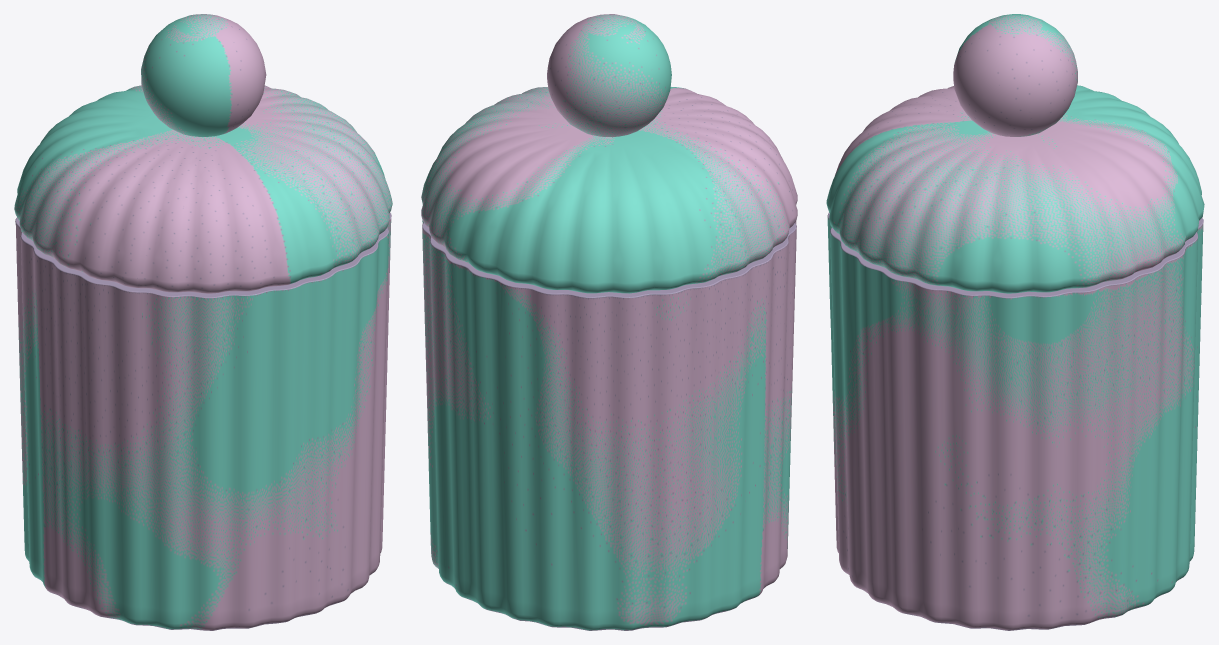
3 renders of one model, left to right at view 1: azimuth 30°, elevation 25°; view 2: azimuth 150°, elevation 25°; view 3: azimuth 270°, elevation 25°, orthographic.
Visible parts, largest first — view 1: ASY_ART_40618180_S01_NV01; view 2: ASY_ART_40618180_S01_NV01; view 3: ASY_ART_40618180_S01_NV01.
Part boxes in pixels (bbox=[...]): ASY_ART_40618180_S01_NV01: bbox=[14, 14, 392, 630]; ASY_ART_40618180_S01_NV01: bbox=[421, 14, 797, 630]; ASY_ART_40618180_S01_NV01: bbox=[826, 14, 1204, 630].
Bounding box in the file's own units: 0.1005 × 0.158 × 0.1005.
Materials: 2 (2 with a texture image).
